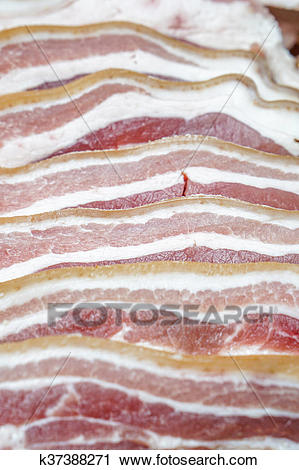bacon: (3, 23, 257, 216), (8, 228, 299, 335), (8, 342, 297, 441)
